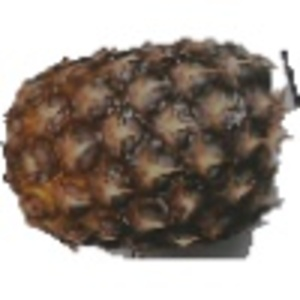abacaxi: (1, 39, 282, 246)
